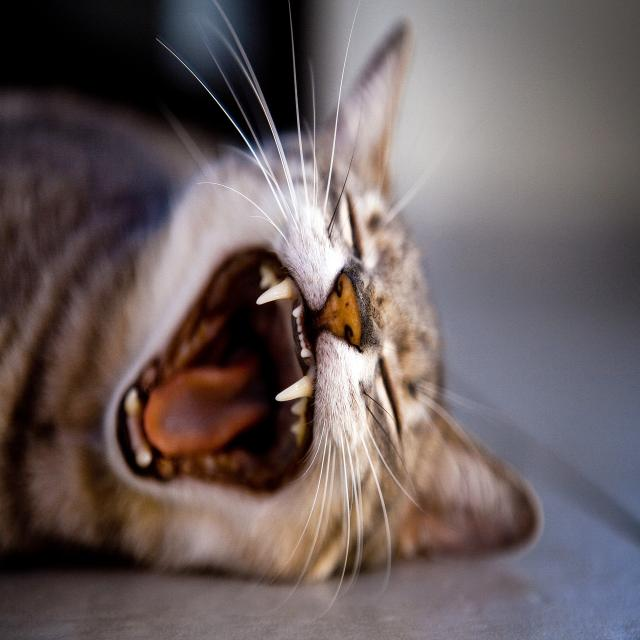cat: (1, 1, 544, 612)
